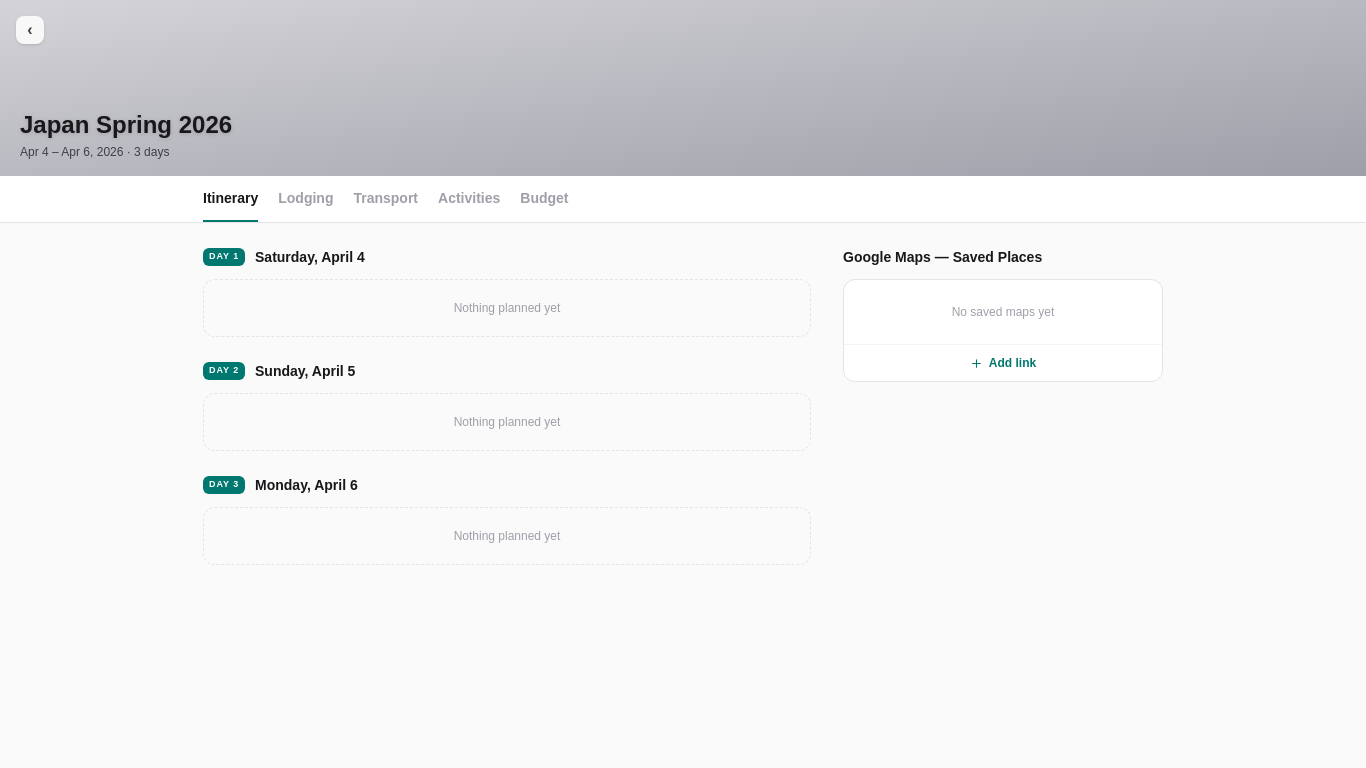
Test: TripPage — saved map links › opens the add modal when 'Add link' is clicked
Expected: the text "No saved maps yet" is shown, [952,305,1054,319]
Click the button "Add link" at coordinates (1003, 362), box [844,344,1162,381]
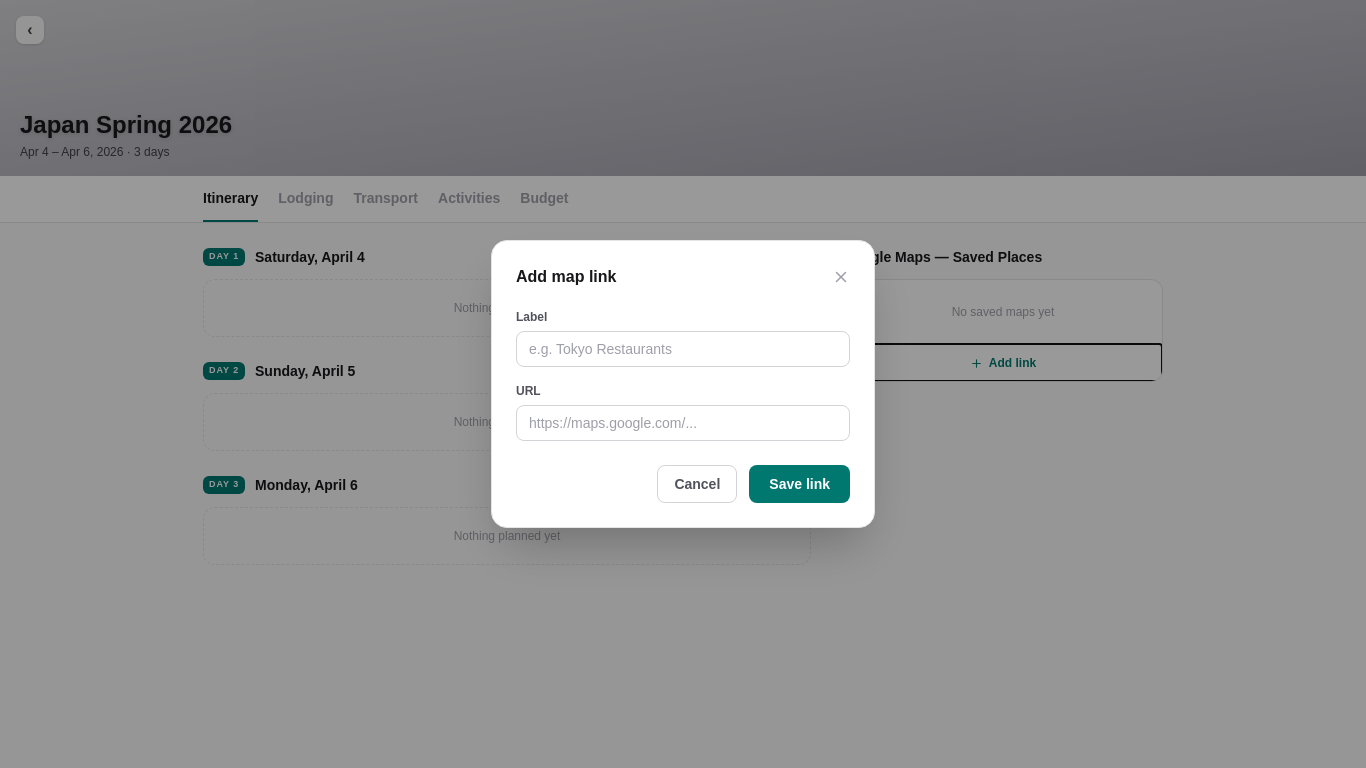
Result: the heading "Add map link" is shown at [516,265,616,289]
